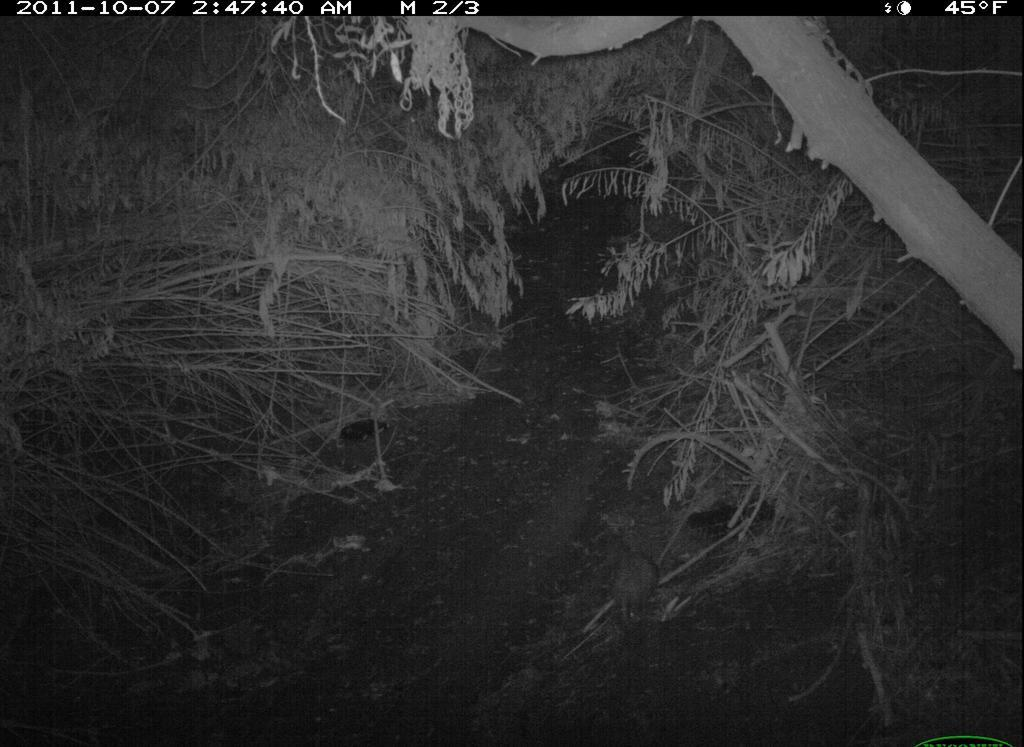opossum: (593, 516, 674, 647)
